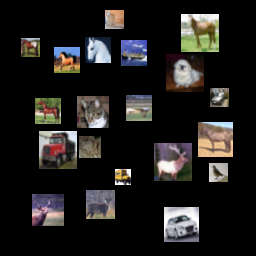airplane: (0, 211, 35, 246), (54, 193, 73, 212), (16, 68, 35, 87)
automobile: (205, 10, 237, 42), (37, 58, 63, 84)
bird: (87, 62, 119, 94)
cat: (59, 6, 85, 32), (145, 168, 161, 184)
deer: (132, 206, 170, 244), (208, 125, 237, 154), (141, 75, 167, 101)
dog: (49, 122, 87, 160), (93, 191, 119, 217)
ship: (178, 78, 200, 100), (150, 140, 172, 162)
